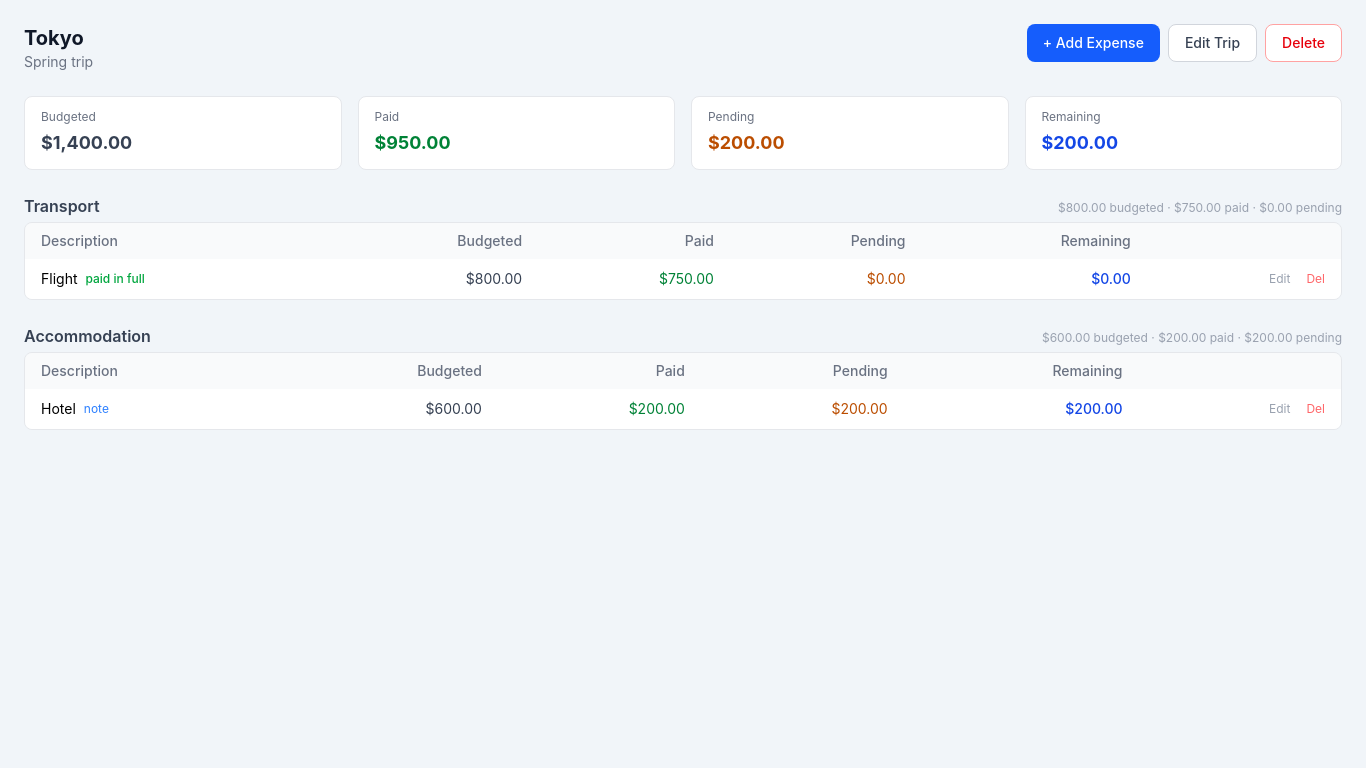
Test: TripView › shows the expense form when "+ Add Expense" is clicked
Click the button "+ Add Expense" at (1093, 43), box [1027, 24, 1160, 62]
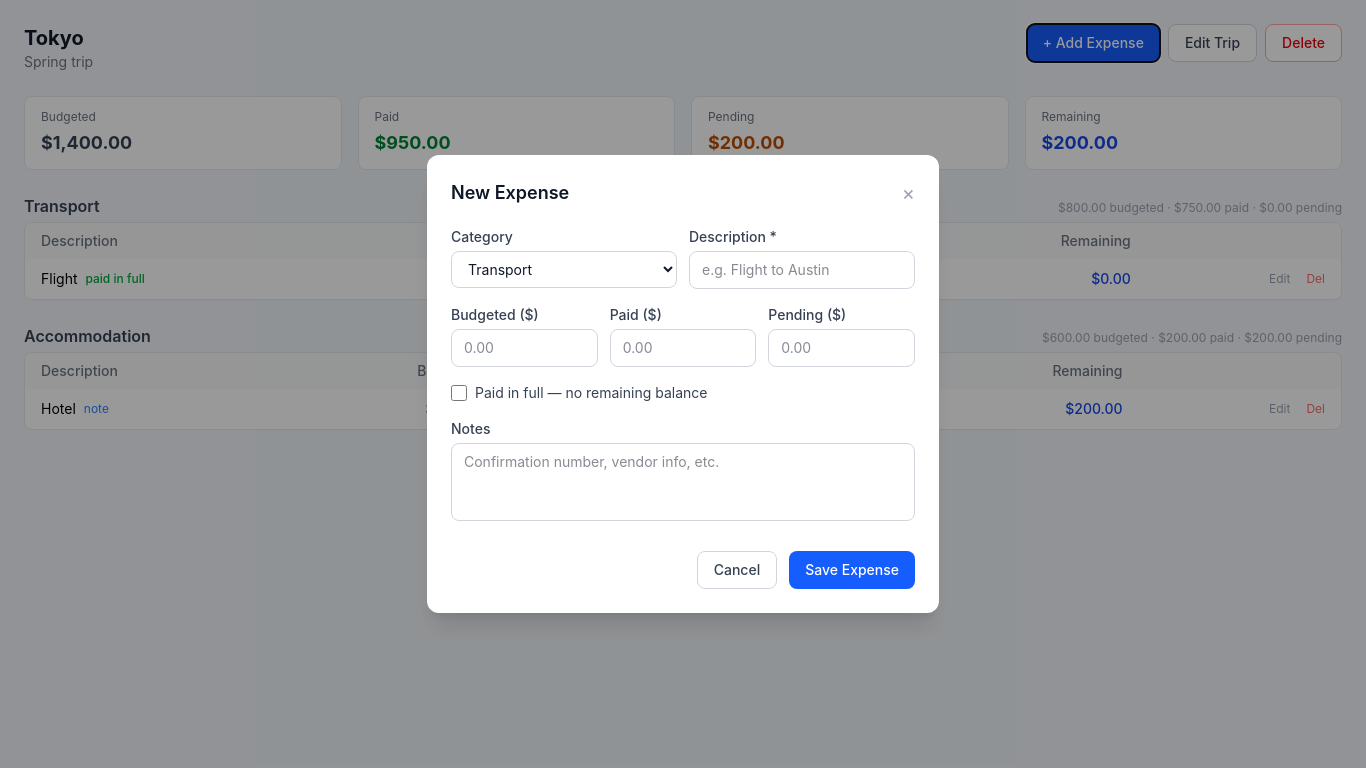
Check: the heading "New Expense" is shown, box [451, 179, 569, 207]
